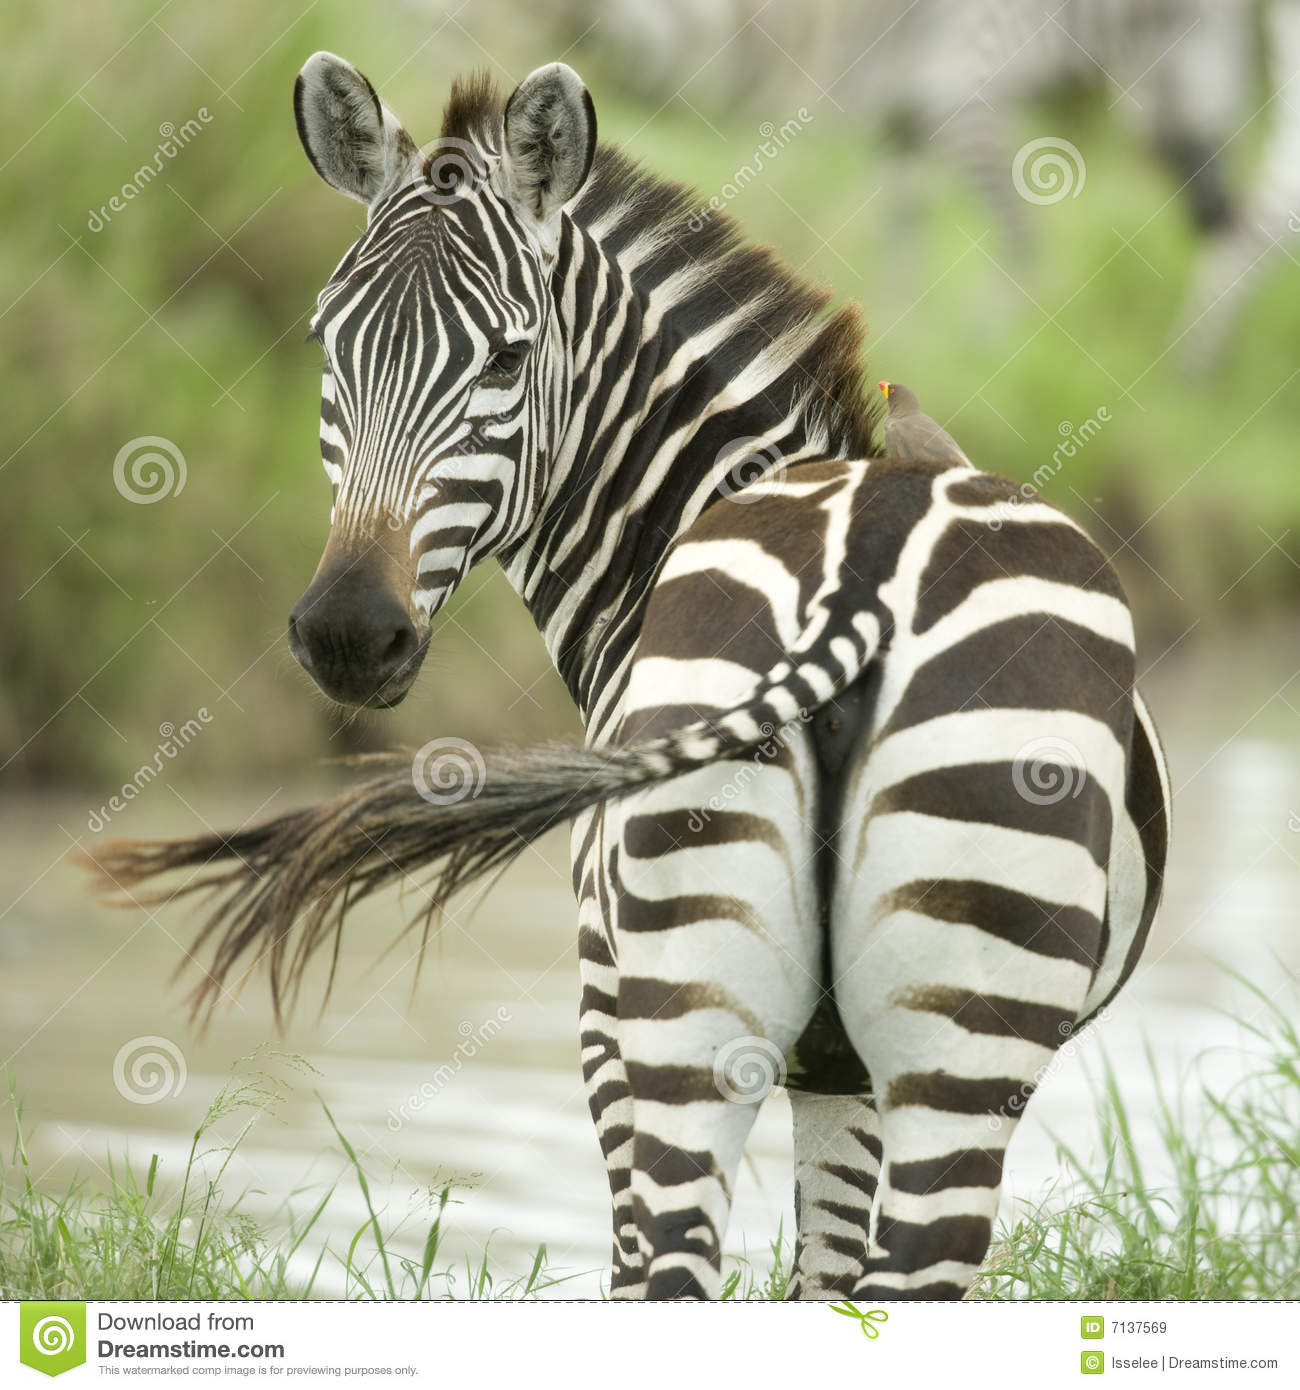zebra: (283, 20, 1167, 1304)
